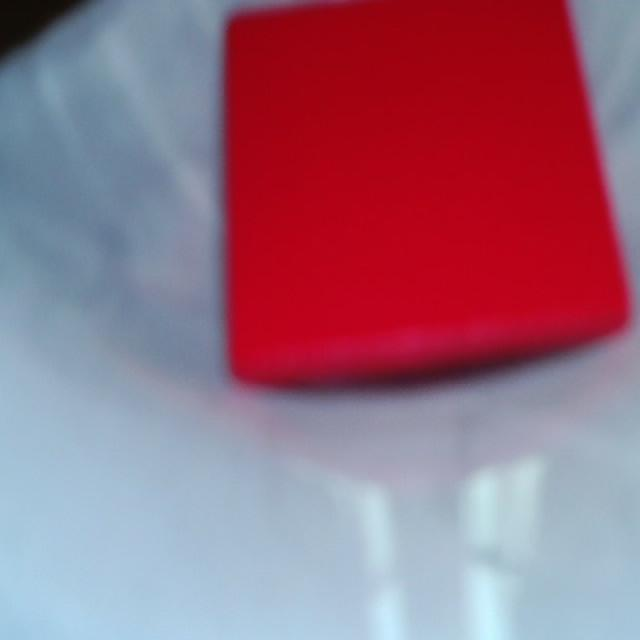square: (226, 0, 629, 381)
